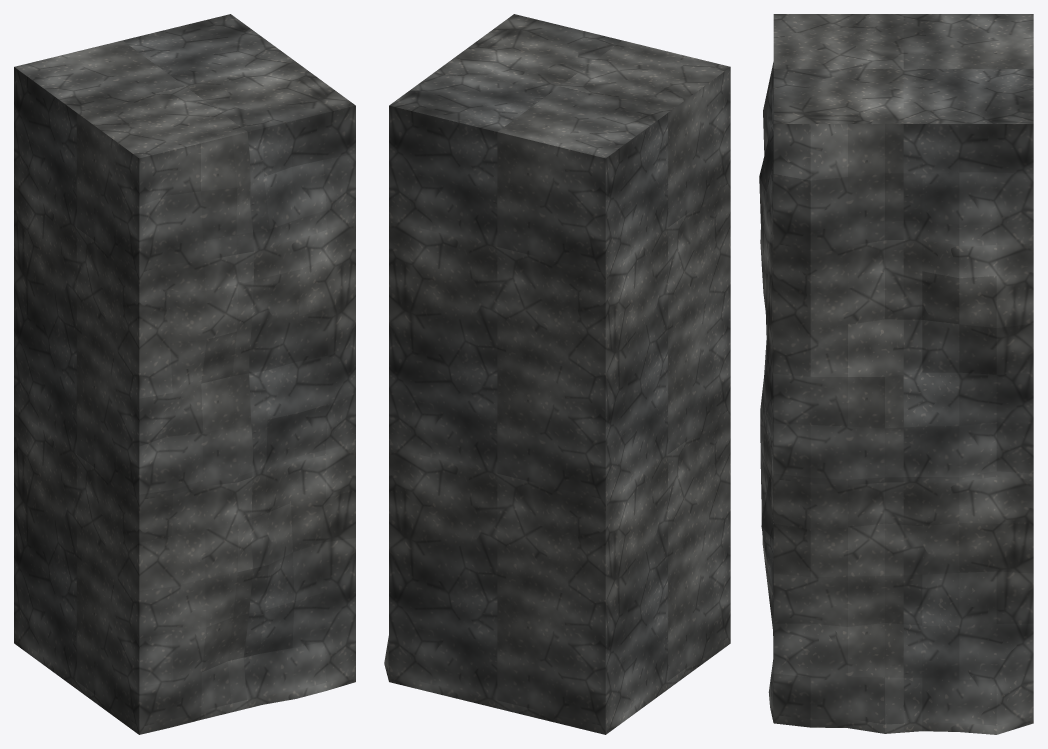
File: kit_wall_cave_corner.glb
The picture shows the model from 3 angles, left to right: view 1: azimuth 30°, elevation 25°; view 2: azimuth 150°, elevation 25°; view 3: azimuth 270°, elevation 25°; orthographic projection. The views are drawn at different scales.
Visible parts, largest first — view 1: kit_wall_cave_corner; view 2: kit_wall_cave_corner; view 3: kit_wall_cave_corner.
Part boxes in pixels (x1,y1,x2,y2): kit_wall_cave_corner: (14,14,355,734); kit_wall_cave_corner: (384,14,730,734); kit_wall_cave_corner: (759,14,1033,734).
Bounding box in the file's own units: 3.09 × 7.12 × 2.95.
Materials: 1 (1 with a texture image).
